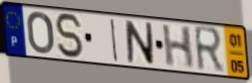H: (161, 24, 196, 70)
I: (109, 17, 120, 64)
N: (124, 19, 156, 67)
O: (25, 10, 56, 56)
R: (192, 24, 227, 76)
S: (53, 11, 86, 60)
